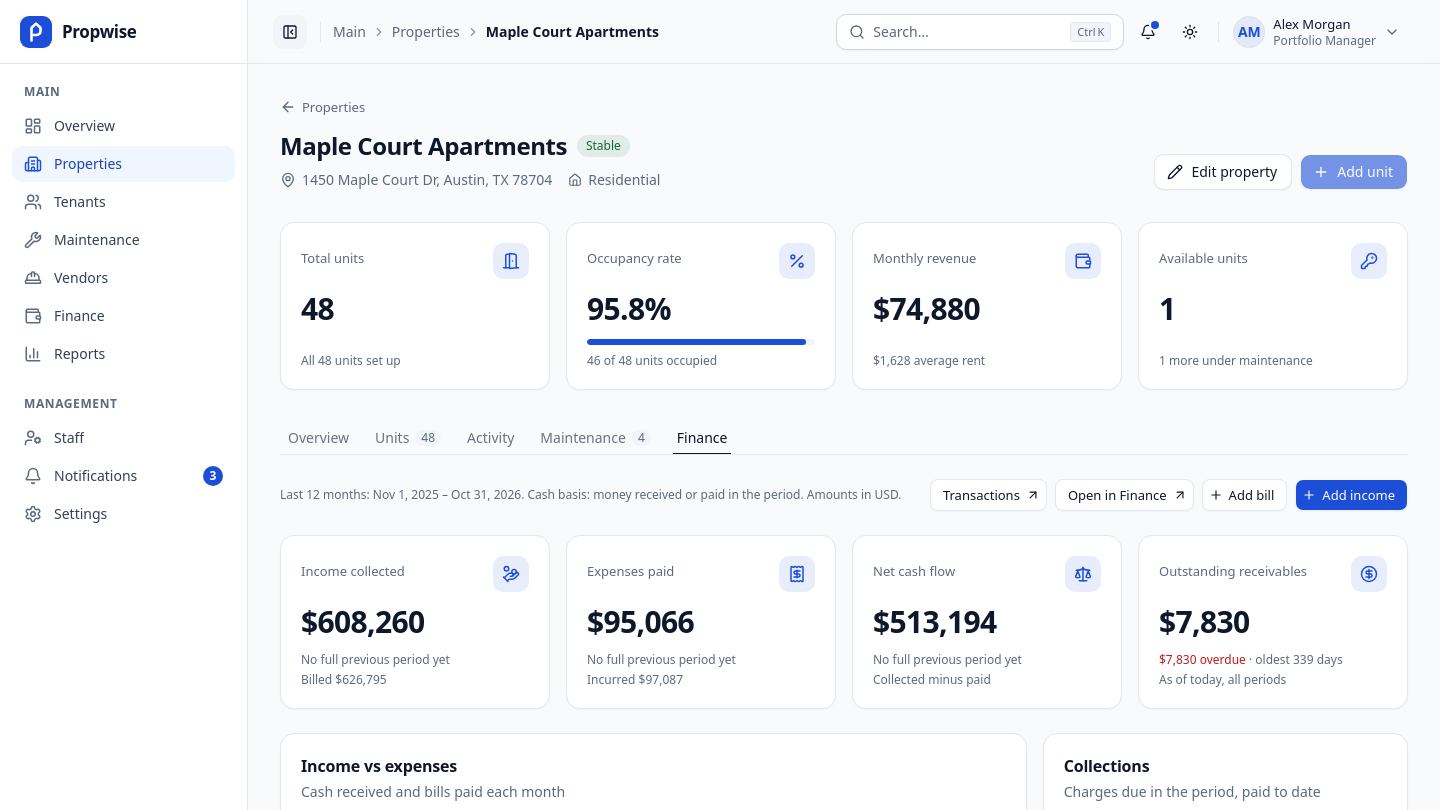
Scenario: property Finance tab › pre-fills the property when adding a bill from it
Expected: the element named "Finance figures" is shown, x1=280 y1=535 x2=1408 y2=709
Click the link "Add bill".
click(1244, 495)  # box x1=1202 y1=479 x2=1287 y2=511
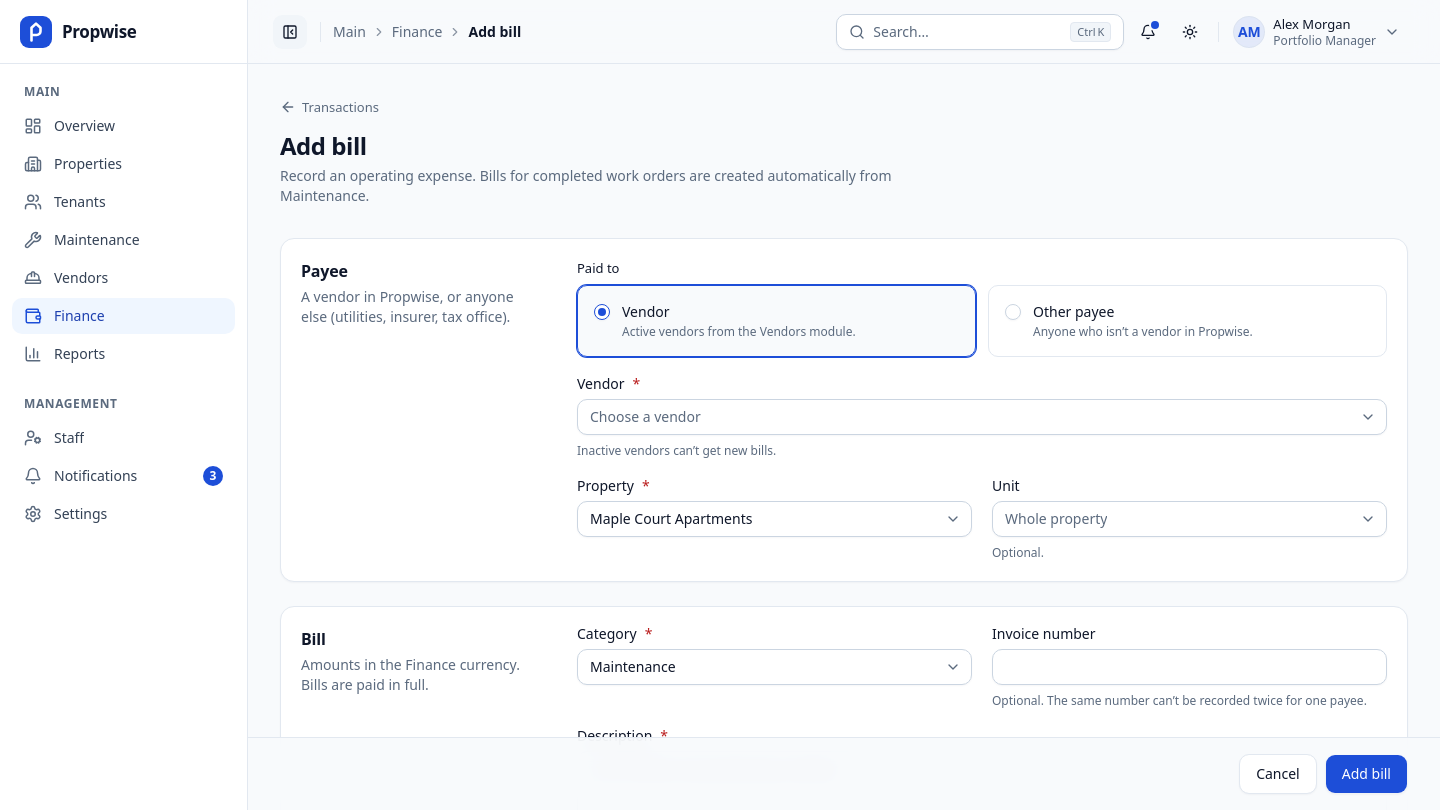
Expected: the dropdown named "Property" reads "Maple Court Apartments", x1=577 y1=501 x2=972 y2=537
Expected: the heading "Add bill" is shown, x1=280 y1=130 x2=367 y2=162
